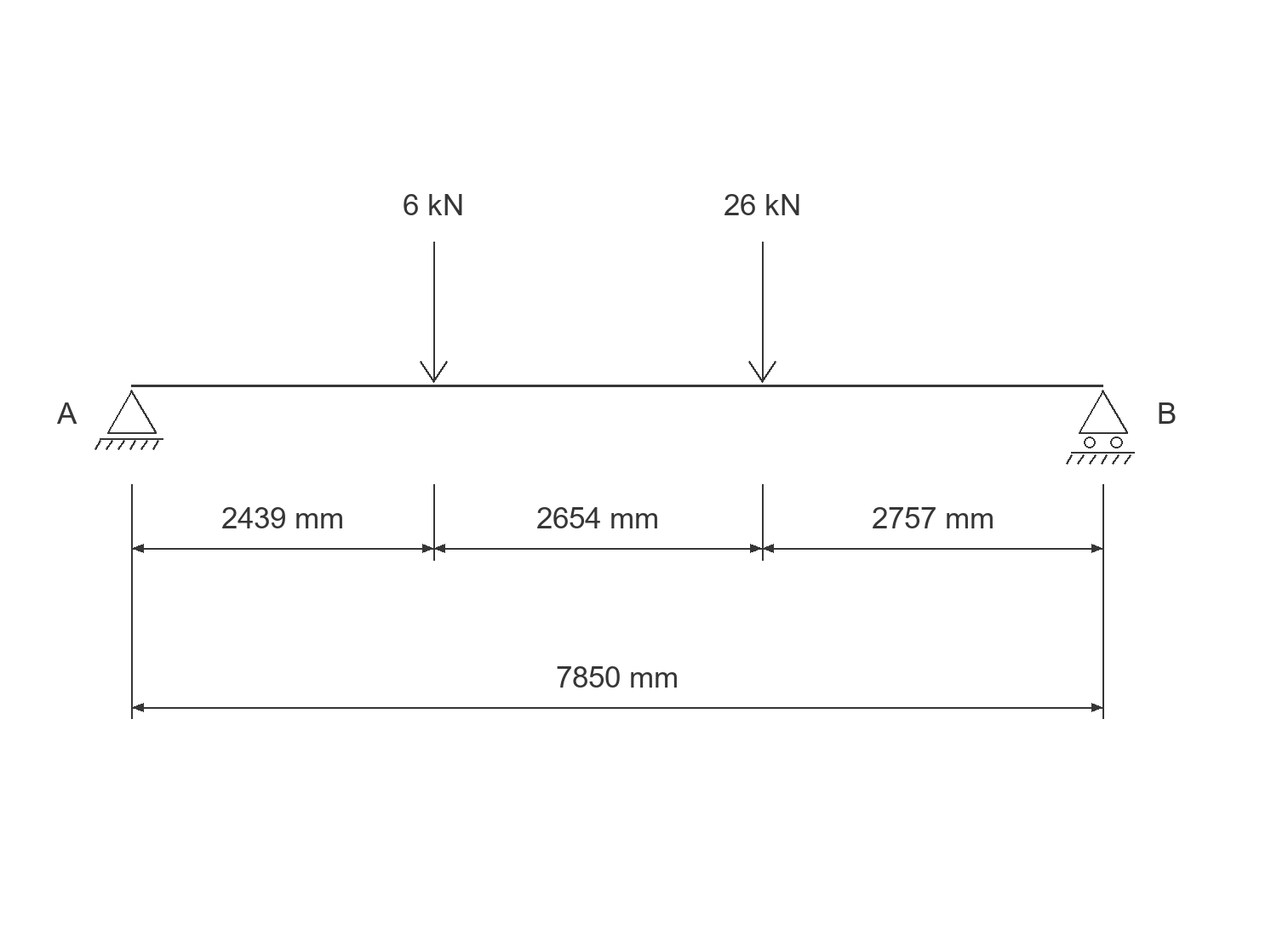pin_support: (94, 390, 163, 450)
point_load: (420, 242, 448, 383), (748, 242, 776, 383)
roller_support: (1066, 390, 1135, 465)
